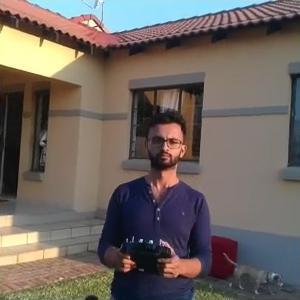follow: (89, 103, 215, 298)
null: (218, 248, 283, 296)
